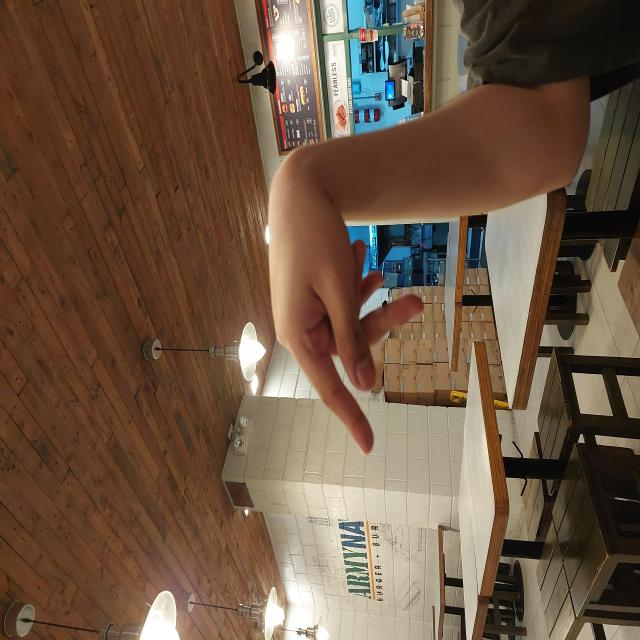P: (183, 266, 451, 426)
